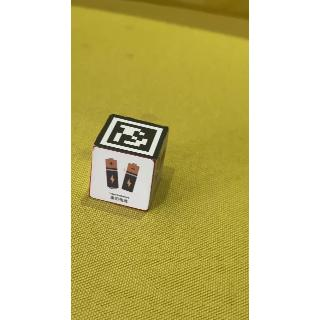Used_Battery: (93, 146, 153, 214)
